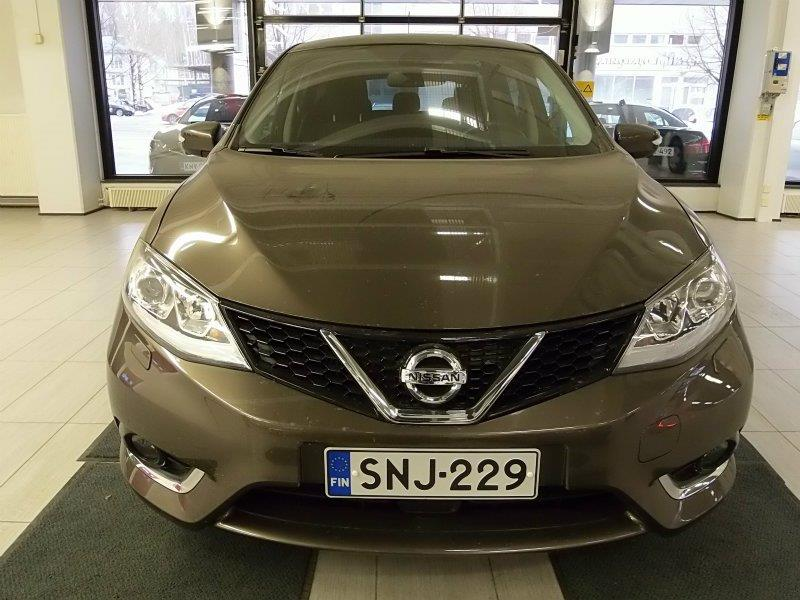license: (322, 445, 536, 498)
